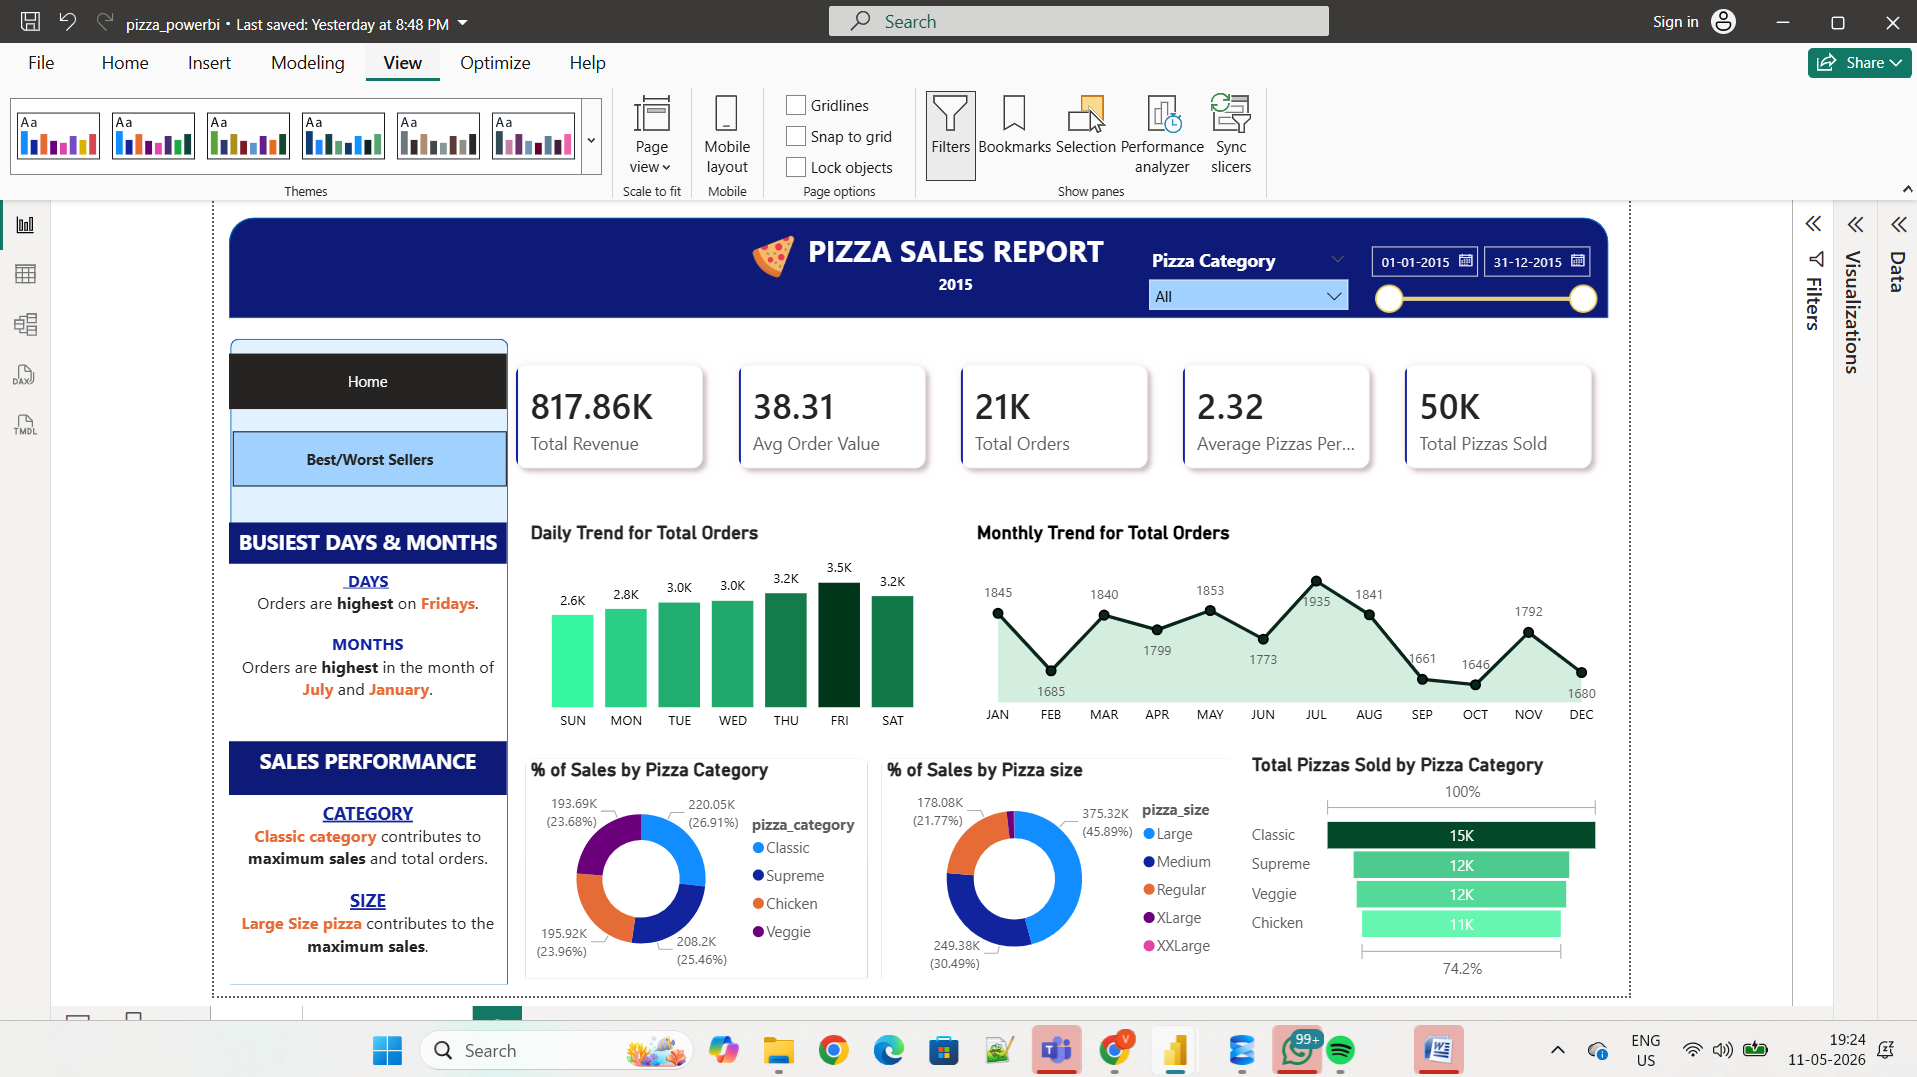

This screenshot's page, from the dashboard's own definition file:
{"tool":"powerbi","page":{"name":"Home","canvas":[1280,720],"ordinal":0},"visuals":[{"type":"cardVisual","fields":{"Data":["pizza_sales.Total Revenue","pizza_sales.Avg Order Value","pizza_sales.Total Orders","pizza_sales.Average Pizzas Per Order","pizza_sales.Total Pizzas Sold"]},"box":[244.6,119.6,1035.6,152.2],"z":0},{"type":"shape","box":[13.6,16.3,1247.7,91.1],"z":1000},{"type":"textbox","box":[418.6,23.1,505.6,47.6],"z":2000},{"type":"image","box":[470.3,31.3,70.7,39.4],"z":3000},{"type":"textbox","box":[557.2,62.5,227,38.1],"z":4000},{"type":"shape","box":[281.3,271.8,376.5,207.9],"z":5000},{"type":"columnChart","title":"Daily Trend for Total Orders","fields":{"Category":["pizza_sales.Order Day"],"Y":["pizza_sales.Total Orders"]},"box":[281.3,290.8,376.5,198.4],"z":6000},{"type":"shape","box":[680.9,271.8,580.3,207.9],"z":7000},{"type":"areaChart","title":"Monthly Trend for Total Orders","fields":{"Category":["pizza_sales.Order Month"],"Y":["pizza_sales.Total Orders"]},"box":[685,290.8,576.3,193],"z":8000},{"type":"shape","box":[281.3,505.6,309.9,198.4],"z":9000},{"type":"shape","box":[603.4,505.6,320.7,198.4],"z":10000},{"type":"shape","box":[933.7,505.6,327.5,198.4],"z":11000},{"type":"donutChart","title":"% of Sales by Pizza Category","fields":{"Category":["pizza_sales.pizza_category"],"Y":["pizza_sales.Total Revenue"]},"box":[281.3,505.6,309.9,198.4],"z":12000},{"type":"donutChart","title":"% of Sales by Pizza size","fields":{"Category":["pizza_sales.pizza_size"],"Y":["pizza_sales.Total Revenue"]},"box":[603.4,505.6,320.7,198.4],"z":13000},{"type":"funnel","title":"Total Pizzas Sold by Pizza Category","fields":{"Category":["pizza_sales.pizza_category"],"Y":["pizza_sales.Total Pizzas Sold"]},"box":[934.3,501.4,325.7,208.6],"z":14000},{"type":"shape","box":[14.3,125.7,251.4,584.3],"z":15000},{"type":"textbox","box":[13.8,291.2,251.2,37.5],"z":16000},{"type":"textbox","box":[13.8,328.8,251.2,161.2],"z":17000},{"type":"textbox","box":[13.8,490,251.2,48.8],"z":18000},{"type":"textbox","box":[13.8,538.8,251.2,171.2],"z":19000},{"type":"slicer","fields":{"Values":["pizza_sales.pizza_category"]},"box":[835,38.3,200,106.7],"z":20000},{"type":"slicer","fields":{"Values":["pizza_sales.order_date"]},"box":[1035,31.7,225,106.7],"z":21000},{"type":"pageNavigator","box":[13.3,138.9,251.1,50],"z":21001},{"type":"pageNavigator","box":[16.7,208.9,248.9,50],"z":21002}]}

Visuals, with their boxes on the page's 1280x720 design canvas (x1, y1, x2, y2). These are canvas units, not pixel positions in the 1917x1077 screenshot, which may show the page scaled, cropped or inside an application window:
cardVisual - pizza_sales.Total Revenue x pizza_sales.Avg Order Value: Rect(245, 120, 1280, 272)
shape: Rect(14, 16, 1261, 107)
textbox: Rect(419, 23, 924, 71)
image: Rect(470, 31, 541, 71)
textbox: Rect(557, 62, 784, 101)
shape: Rect(281, 272, 658, 480)
"Daily Trend for Total Orders" columnChart: Rect(281, 291, 658, 489)
shape: Rect(681, 272, 1261, 480)
"Monthly Trend for Total Orders" areaChart: Rect(685, 291, 1261, 484)
shape: Rect(281, 506, 591, 704)
shape: Rect(603, 506, 924, 704)
shape: Rect(934, 506, 1261, 704)
"% of Sales by Pizza Category" donutChart: Rect(281, 506, 591, 704)
"% of Sales by Pizza size" donutChart: Rect(603, 506, 924, 704)
"Total Pizzas Sold by Pizza Category" funnel: Rect(934, 501, 1260, 710)
shape: Rect(14, 126, 266, 710)
textbox: Rect(14, 291, 265, 329)
textbox: Rect(14, 329, 265, 490)
textbox: Rect(14, 490, 265, 539)
textbox: Rect(14, 539, 265, 710)
slicer - pizza_sales.pizza_category: Rect(835, 38, 1035, 145)
slicer - pizza_sales.order_date: Rect(1035, 32, 1260, 138)
pageNavigator: Rect(13, 139, 264, 189)
pageNavigator: Rect(17, 209, 266, 259)
